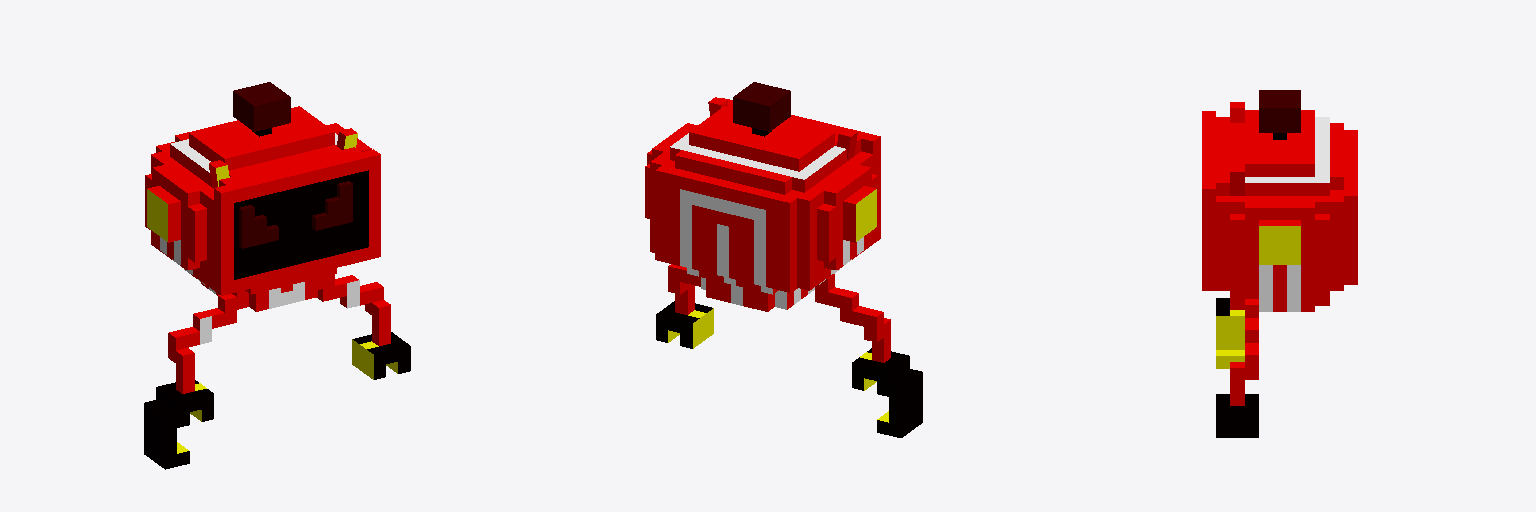
The model's file is ExplodeNew.obj.
3 renders of one model, left to right at view 1: azimuth 30°, elevation 25°; view 2: azimuth 150°, elevation 25°; view 3: azimuth 270°, elevation 25°, orthographic.
Visible parts, largest first — view 1: pCube2; view 2: pCube2; view 3: pCube2.
Boxes of the visible parts, x1,y1,x2,y2 form: pCube2: [144, 82, 410, 469]; pCube2: [645, 82, 922, 437]; pCube2: [1202, 90, 1357, 437].
Bounding box in the file's own units: 0.02 × 0.025 × 0.011.